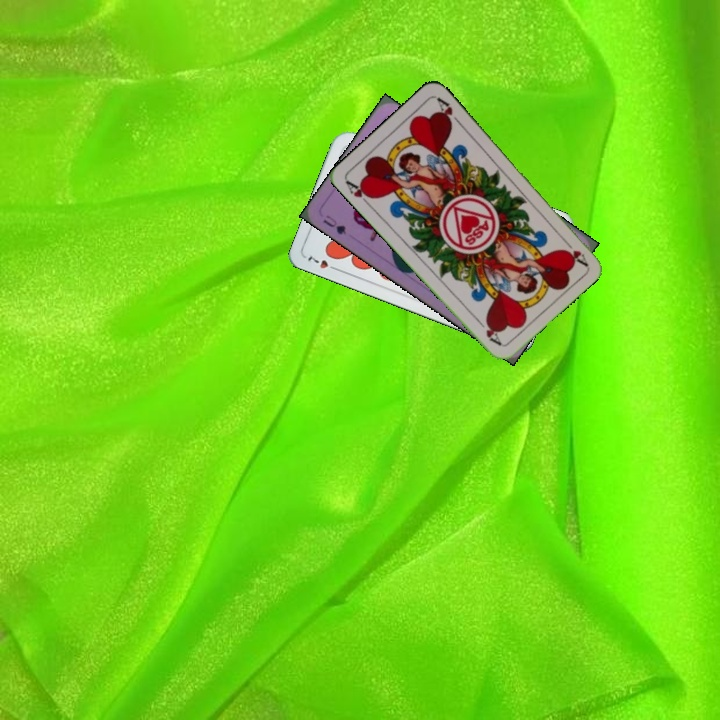GU: (319, 211, 349, 237)
H7: (303, 251, 342, 274)
HA: (342, 177, 377, 210), (558, 234, 590, 268)
